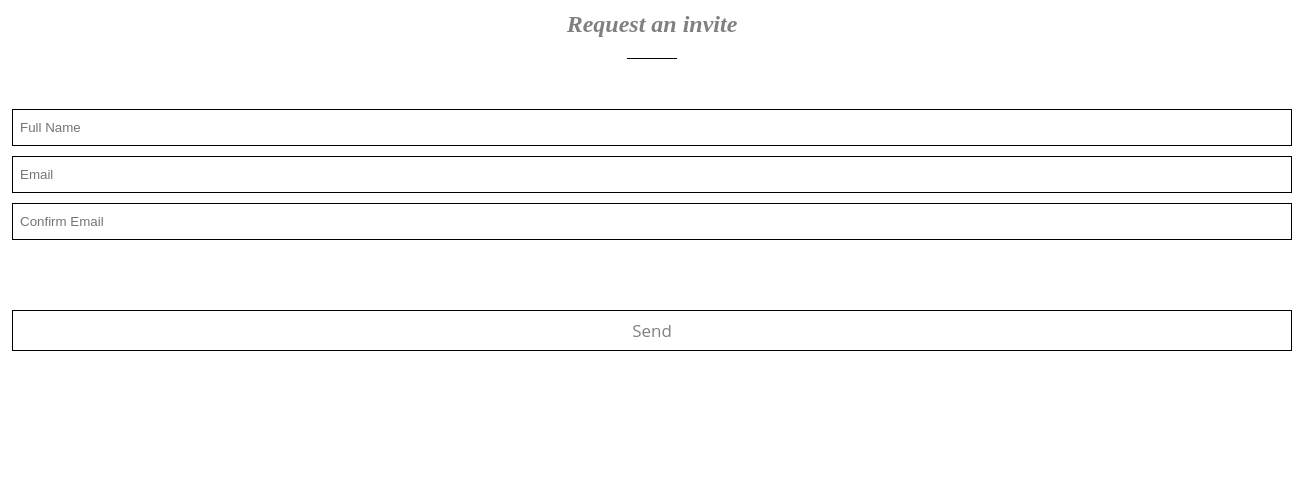
Test case: RequestInviteForm › shows error message when form is submitted with empty fields
This screenshot has width=1304, height=482.
Click the button with test id "submit-button" at point(652, 330), box [12, 310, 1292, 351]
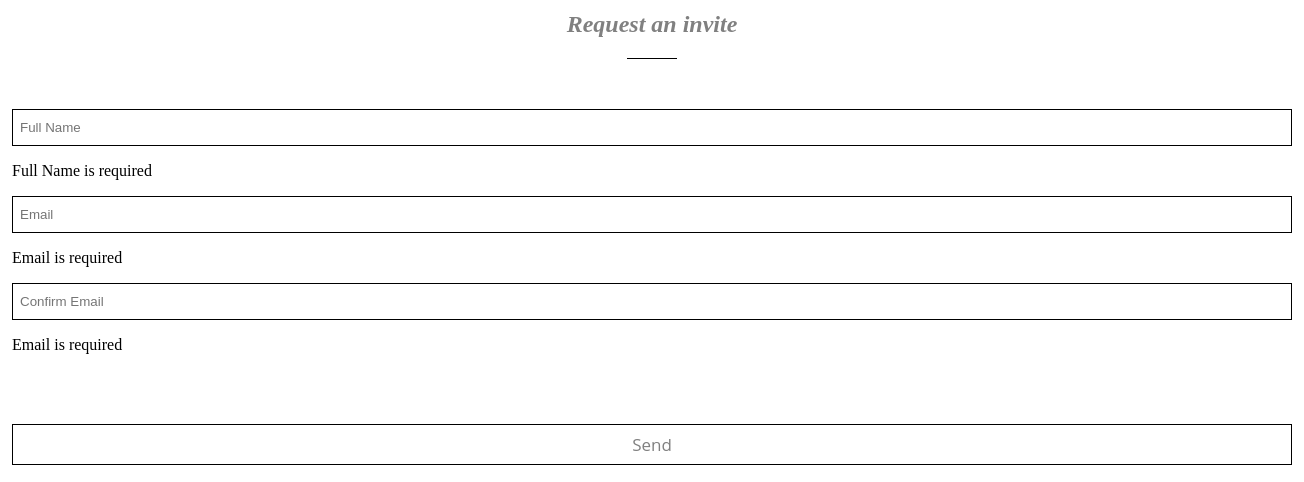
Check: the text "Full Name is required" is shown, box [12, 162, 152, 179]
